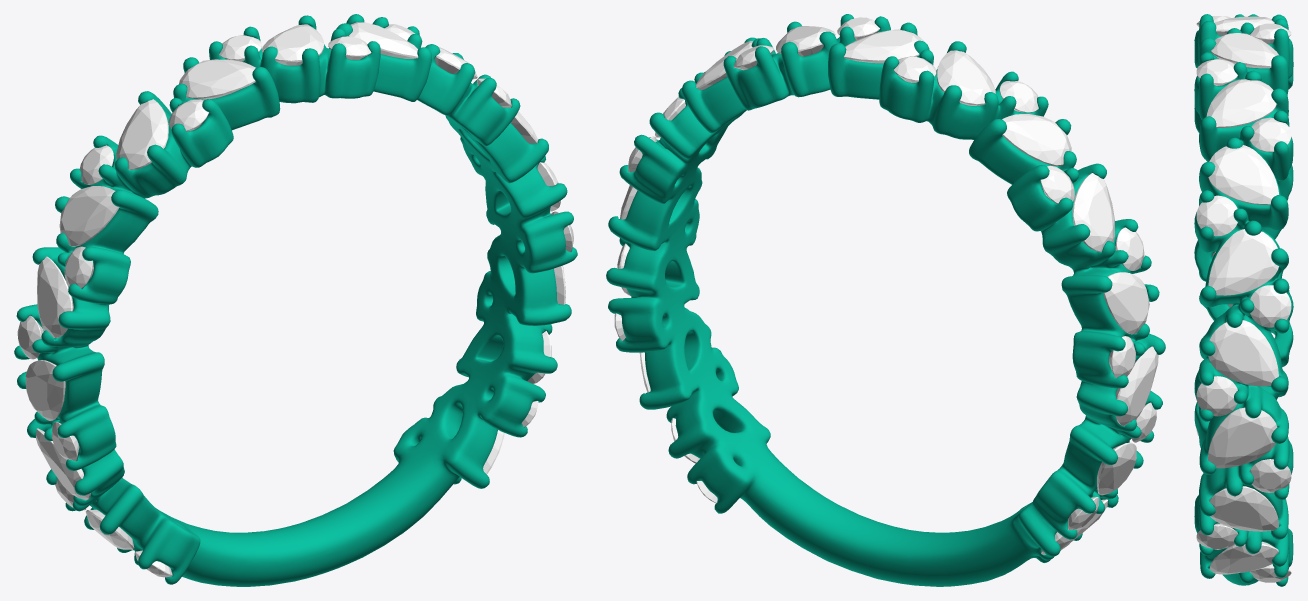
File: BE2D15104LC_RENDER.glb
The picture shows the model from 3 angles, left to right: view 1: azimuth 30°, elevation 25°; view 2: azimuth 150°, elevation 25°; view 3: azimuth 270°, elevation 25°; orthographic projection. The views are drawn at different scales.
Visible parts, largest first — view 1: Metal03, Diamond_Pear_Gem_BD.007, Diamond_Pear_Gem_BD.011, Diamond_Pear_Gem_BD, Diamond_Pear_Gem_BD.013, Diamond_Pear_Gem_BD.008, Diamond_Pear_Gem_BD.001, Diamond_Pear_Gem_BD.002, Diamond_Pear_Gem_BD.009, Diamond_Round_Gem_BD.001, Diamond_Round_Gem_BD.010, Diamond_Round_Gem_BD.009 (+3 smaller); view 2: Metal03, Diamond_Pear_Gem_BD.011, Diamond_Pear_Gem_BD.007, Diamond_Pear_Gem_BD, Diamond_Pear_Gem_BD.013, Diamond_Pear_Gem_BD.001, Diamond_Pear_Gem_BD.008, Diamond_Pear_Gem_BD.009, Diamond_Pear_Gem_BD.002, Diamond_Round_Gem_BD.001, Diamond_Round_Gem_BD.009, Diamond_Round_Gem_BD.010 (+3 smaller); view 3: Metal03, Diamond_Pear_Gem_BD.003, Diamond_Pear_Gem_BD.004, Diamond_Pear_Gem_BD.014, Diamond_Pear_Gem_BD.012, Diamond_Pear_Gem_BD.002, Diamond_Pear_Gem_BD.005, Diamond_Pear_Gem_BD.001, Diamond_Pear_Gem_BD.006, Diamond_Round_Gem_BD.003, Diamond_Round_Gem_BD.012, Diamond_Round_Gem_BD.013 (+7 smaller).
Part boxes in pixels (box(x1,y1,x2,y2)): Metal03: box(14, 14, 577, 586); Diamond_Pear_Gem_BD.007: box(59, 186, 119, 246); Diamond_Pear_Gem_BD.011: box(116, 99, 168, 169); Diamond_Pear_Gem_BD: box(179, 59, 255, 99); Diamond_Pear_Gem_BD.013: box(37, 256, 73, 337); Diamond_Pear_Gem_BD.008: box(25, 360, 65, 420); Diamond_Pear_Gem_BD.001: box(262, 24, 324, 65); Diamond_Pear_Gem_BD.002: box(349, 22, 418, 58); Diamond_Pear_Gem_BD.009: box(36, 428, 90, 499); Diamond_Round_Gem_BD.001: box(79, 145, 113, 184); Diamond_Round_Gem_BD.010: box(169, 99, 208, 131); Diamond_Round_Gem_BD.009: box(64, 246, 93, 288); Metal03: box(606, 14, 1165, 586); Diamond_Pear_Gem_BD.011: box(1002, 114, 1071, 166); Diamond_Pear_Gem_BD.007: box(1072, 173, 1114, 251); Diamond_Pear_Gem_BD: box(936, 50, 995, 105); Diamond_Pear_Gem_BD.013: box(1103, 272, 1149, 334); Diamond_Pear_Gem_BD.001: box(844, 29, 924, 63); Diamond_Pear_Gem_BD.008: box(1115, 346, 1158, 425); Diamond_Pear_Gem_BD.009: box(1097, 442, 1136, 495); Diamond_Pear_Gem_BD.002: box(776, 26, 835, 56); Diamond_Round_Gem_BD.001: box(1040, 165, 1074, 203); Diamond_Round_Gem_BD.009: box(1115, 227, 1144, 270); Diamond_Round_Gem_BD.010: box(999, 81, 1038, 112); Metal03: box(1194, 14, 1293, 586); Diamond_Pear_Gem_BD.003: box(1208, 229, 1278, 295); Diamond_Pear_Gem_BD.004: box(1208, 320, 1278, 386); Diamond_Pear_Gem_BD.014: box(1208, 145, 1278, 204); Diamond_Pear_Gem_BD.012: box(1207, 407, 1277, 468); Diamond_Pear_Gem_BD.002: box(1206, 79, 1276, 127); Diamond_Pear_Gem_BD.005: box(1209, 486, 1278, 531); Diamond_Pear_Gem_BD.001: box(1211, 33, 1278, 68); Diamond_Pear_Gem_BD.006: box(1209, 541, 1278, 574); Diamond_Round_Gem_BD.003: box(1250, 285, 1291, 327); Diamond_Round_Gem_BD.012: box(1196, 195, 1237, 236); Diamond_Round_Gem_BD.013: box(1196, 376, 1237, 416).
Size of the model in its own units: 20.39 by 20.24 by 3.5.
